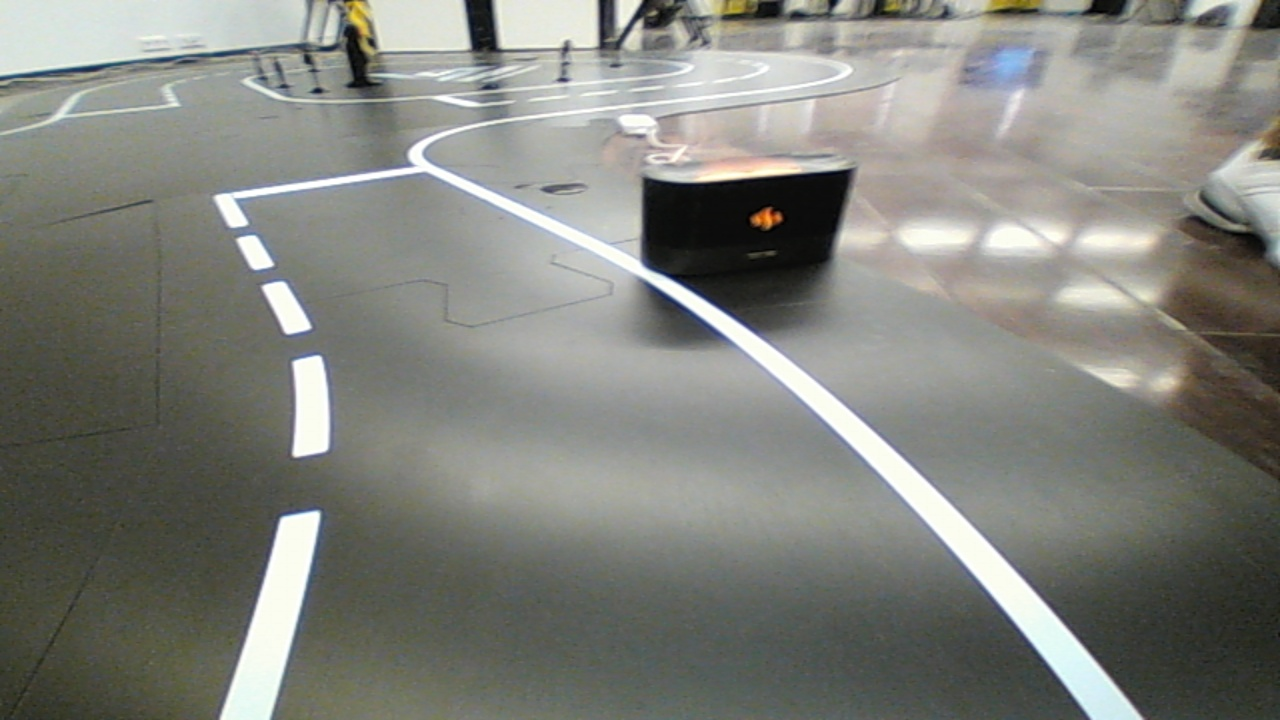Movement prohibition: (617, 145, 870, 293)
